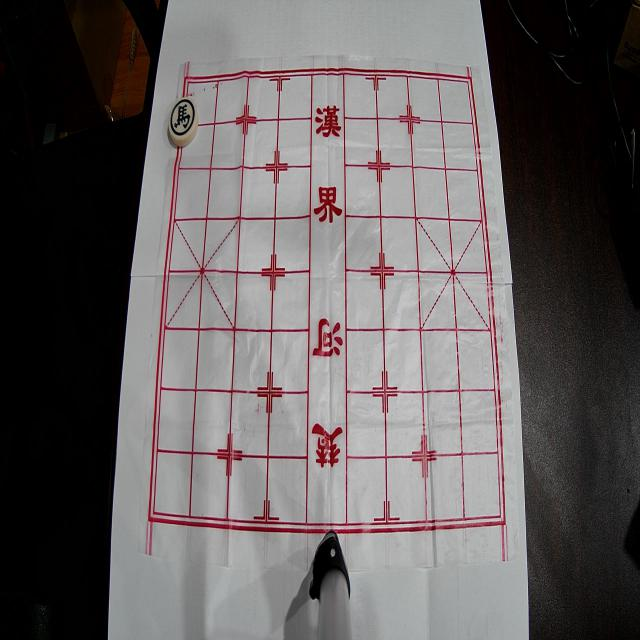black-horse: (168, 97, 198, 147)
